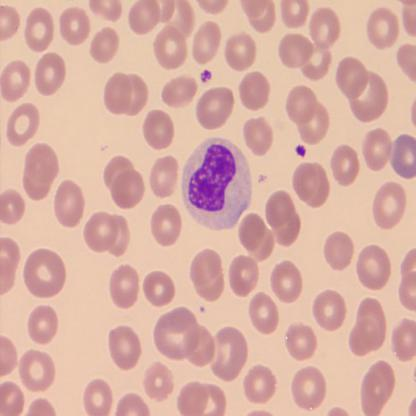Metamyelocyte: (180, 134, 254, 233)
